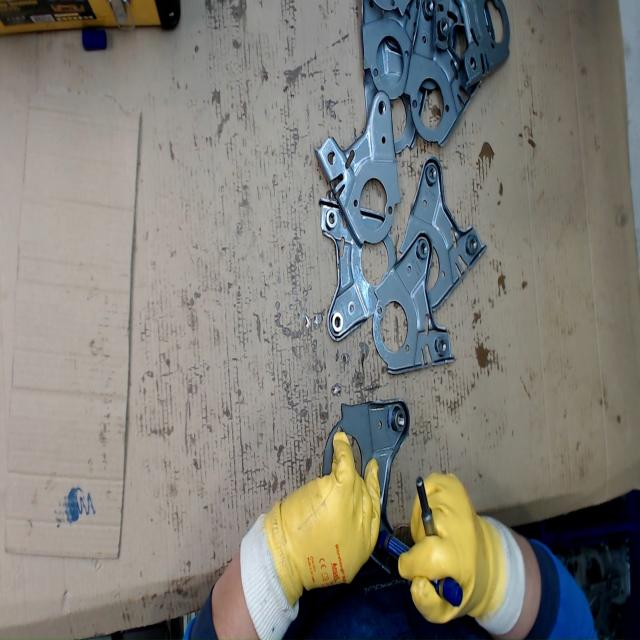hands: (267, 429, 383, 595), (397, 468, 502, 630)
